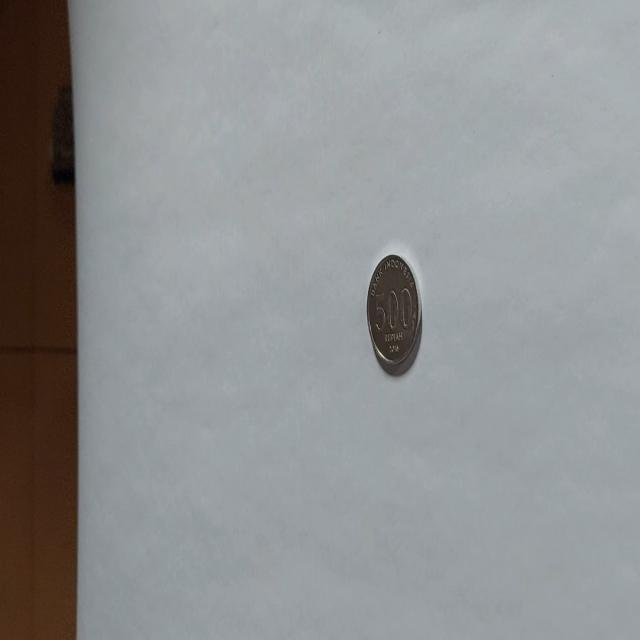lima ratus rupiah: (366, 252, 422, 376)
